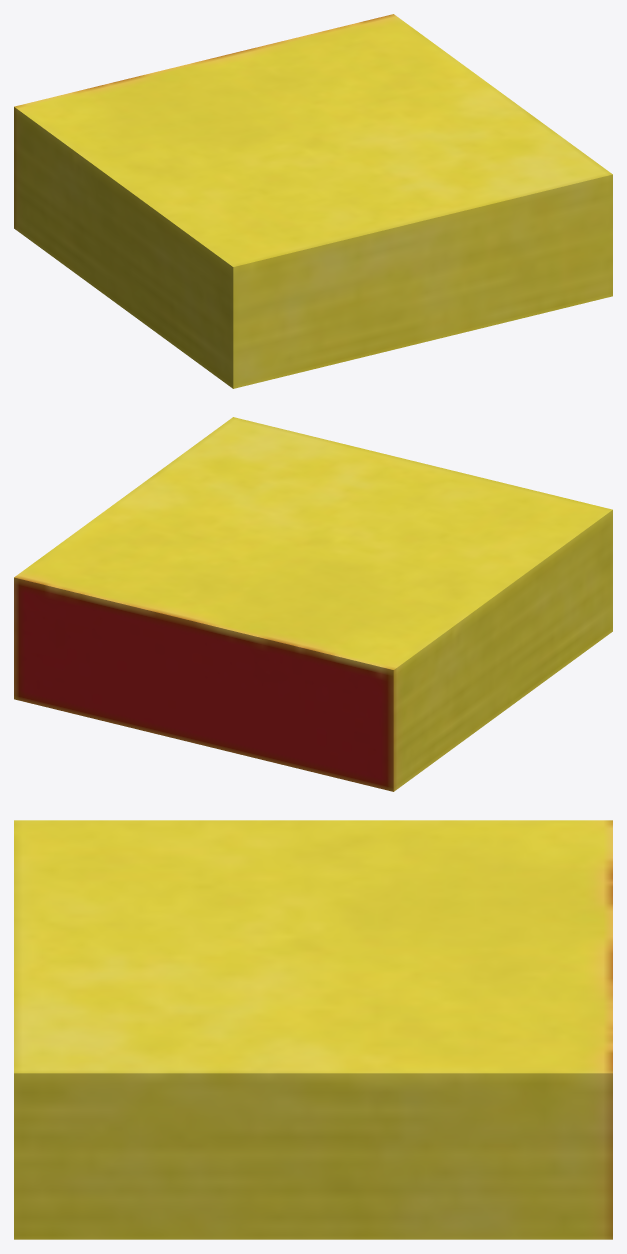
File: stickies.gltf
The picture shows the model from 3 angles, top to bottom: view 1: azimuth 30°, elevation 25°; view 2: azimuth 150°, elevation 25°; view 3: azimuth 270°, elevation 25°; orthographic projection. The views are drawn at different scales.
Visible parts, largest first — view 1: office_notepads_sticky_stack; view 2: office_notepads_sticky_stack; view 3: office_notepads_sticky_stack.
Boxes of the visible parts, x1=… form: office_notepads_sticky_stack: x1=14, y1=14, x2=612, y2=388; office_notepads_sticky_stack: x1=14, y1=417, x2=612, y2=791; office_notepads_sticky_stack: x1=14, y1=820, x2=612, y2=1239.
Bounding box in the file's own units: 0.0718 × 0.022 × 0.0718.
Materials: 1 (1 with a texture image).
